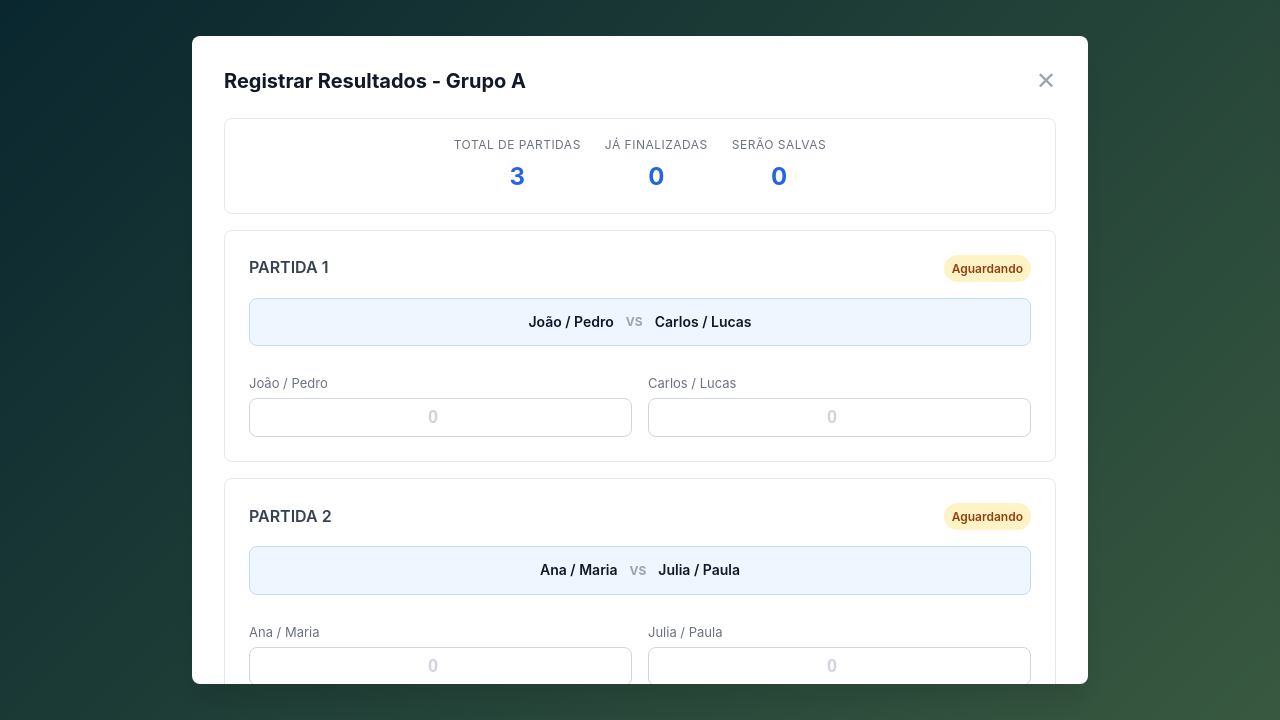
Test: ModalLancamentoResultadosLoteDuplaFixa › validação de placares › deve mostrar erro para empate
Type "5" into the 1st number field with placeholder "0".
click(440, 418); type("5")  # box [249,398,632,437]
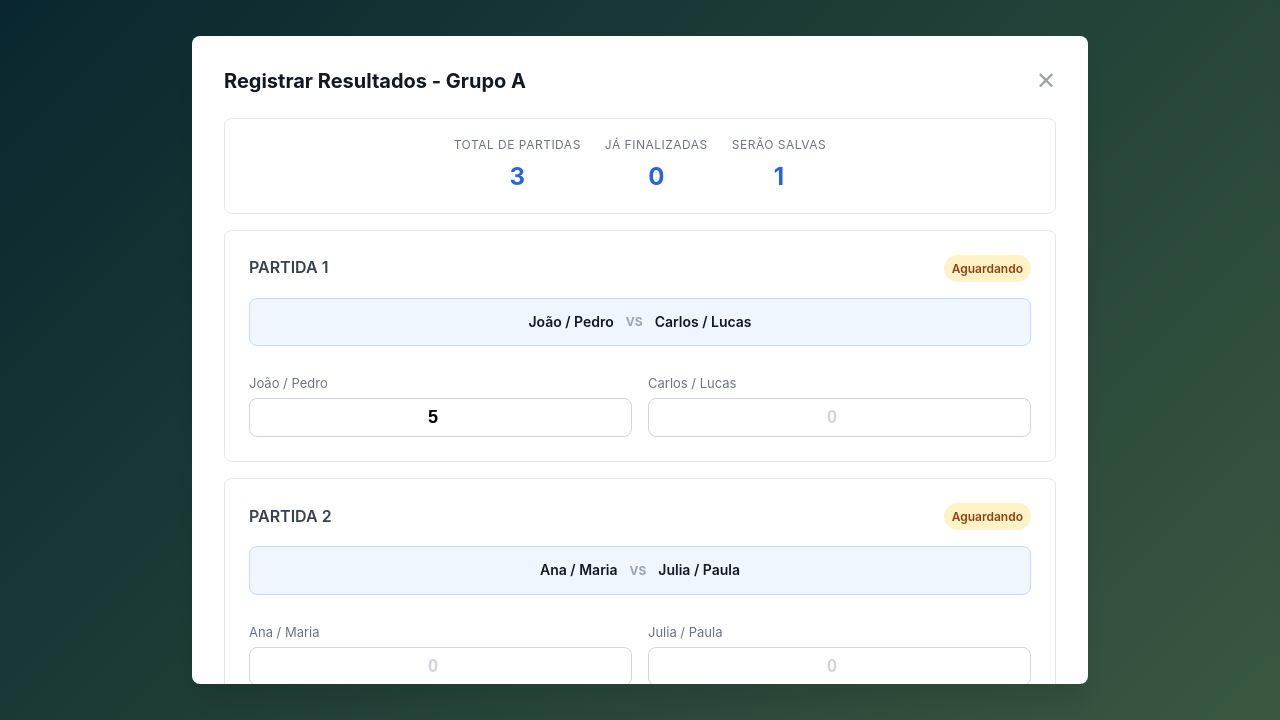
Type "5" into the 1st number field with placeholder "0".
click(840, 418); type("5")  # box [648,398,1031,437]
(page scrolled)
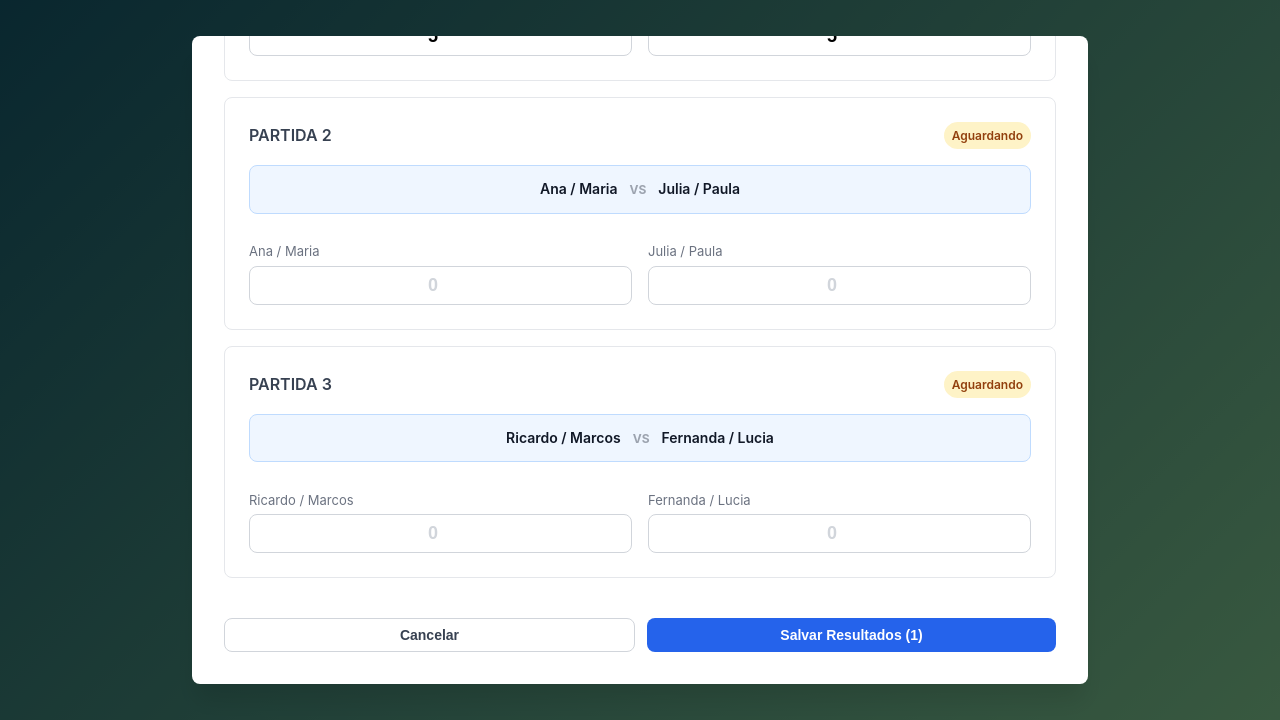
Click the button "Salvar Resultados (1)".
click(852, 635)  # box [647,618,1056,652]
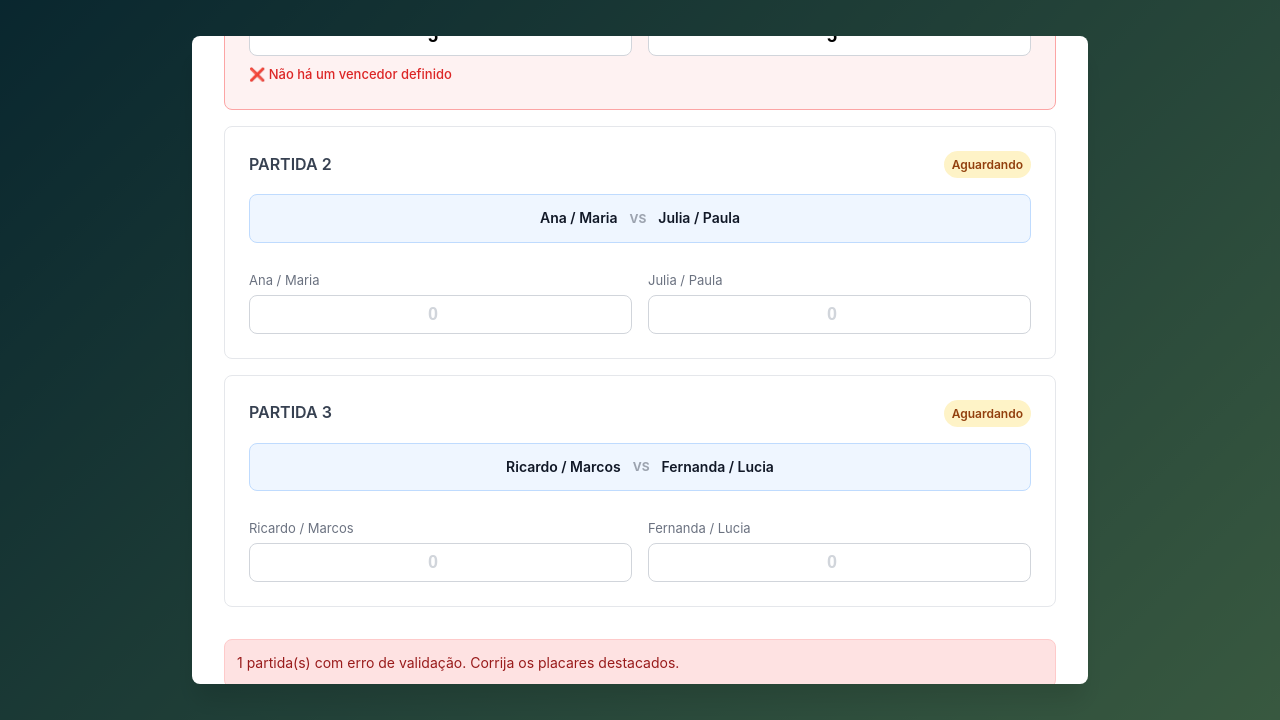
Expected: the text "❌ Não há um vencedor definido" is shown, [249,66,452,82]
